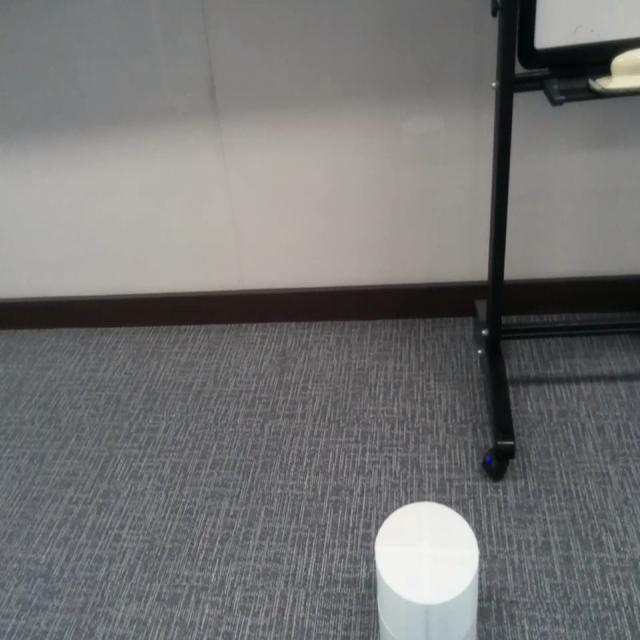cylinder: (374, 502, 481, 640)
